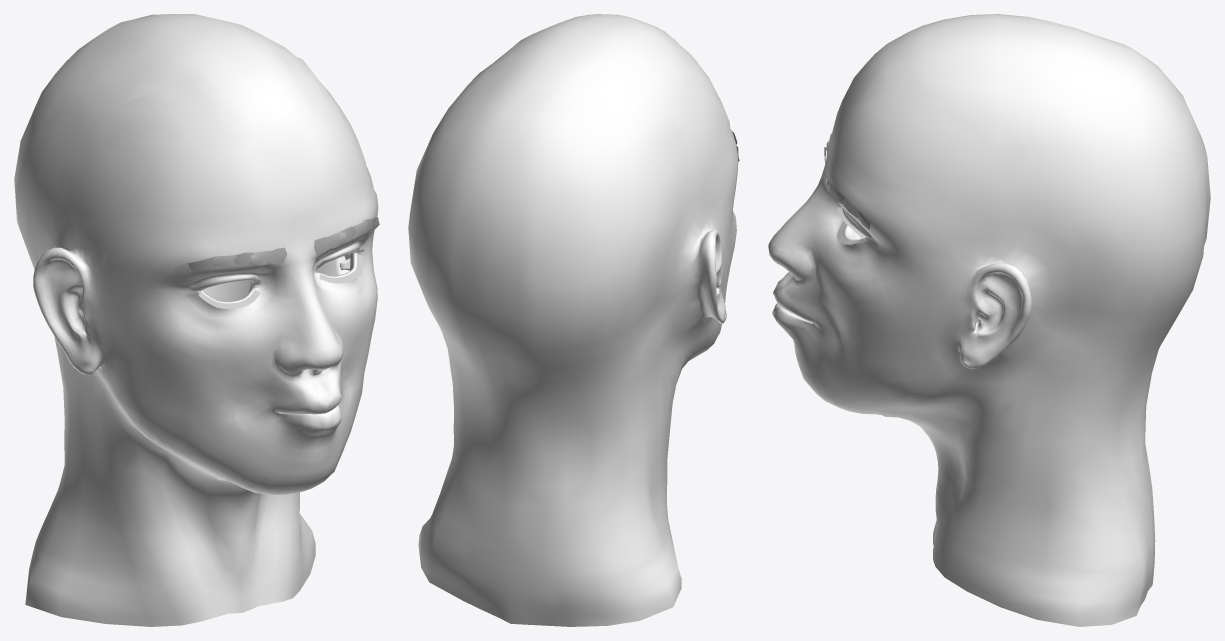
File: mouthPucker.obj
The picture shows the model from 3 angles, left to right: view 1: azimuth 30°, elevation 25°; view 2: azimuth 150°, elevation 25°; view 3: azimuth 270°, elevation 25°; orthographic projection. The views are drawn at different scales.
Visible parts, largest first — view 1: FaceMesh_Plane.003; view 2: FaceMesh_Plane.003; view 3: FaceMesh_Plane.003.
Part boxes in pixels (bbox=[...]): FaceMesh_Plane.003: bbox=[14, 14, 379, 626]; FaceMesh_Plane.003: bbox=[408, 14, 739, 626]; FaceMesh_Plane.003: bbox=[768, 14, 1210, 626].
Bounding box in the file's own units: 1.54 × 2.71 × 1.94.
5 materials, 1 textured.
